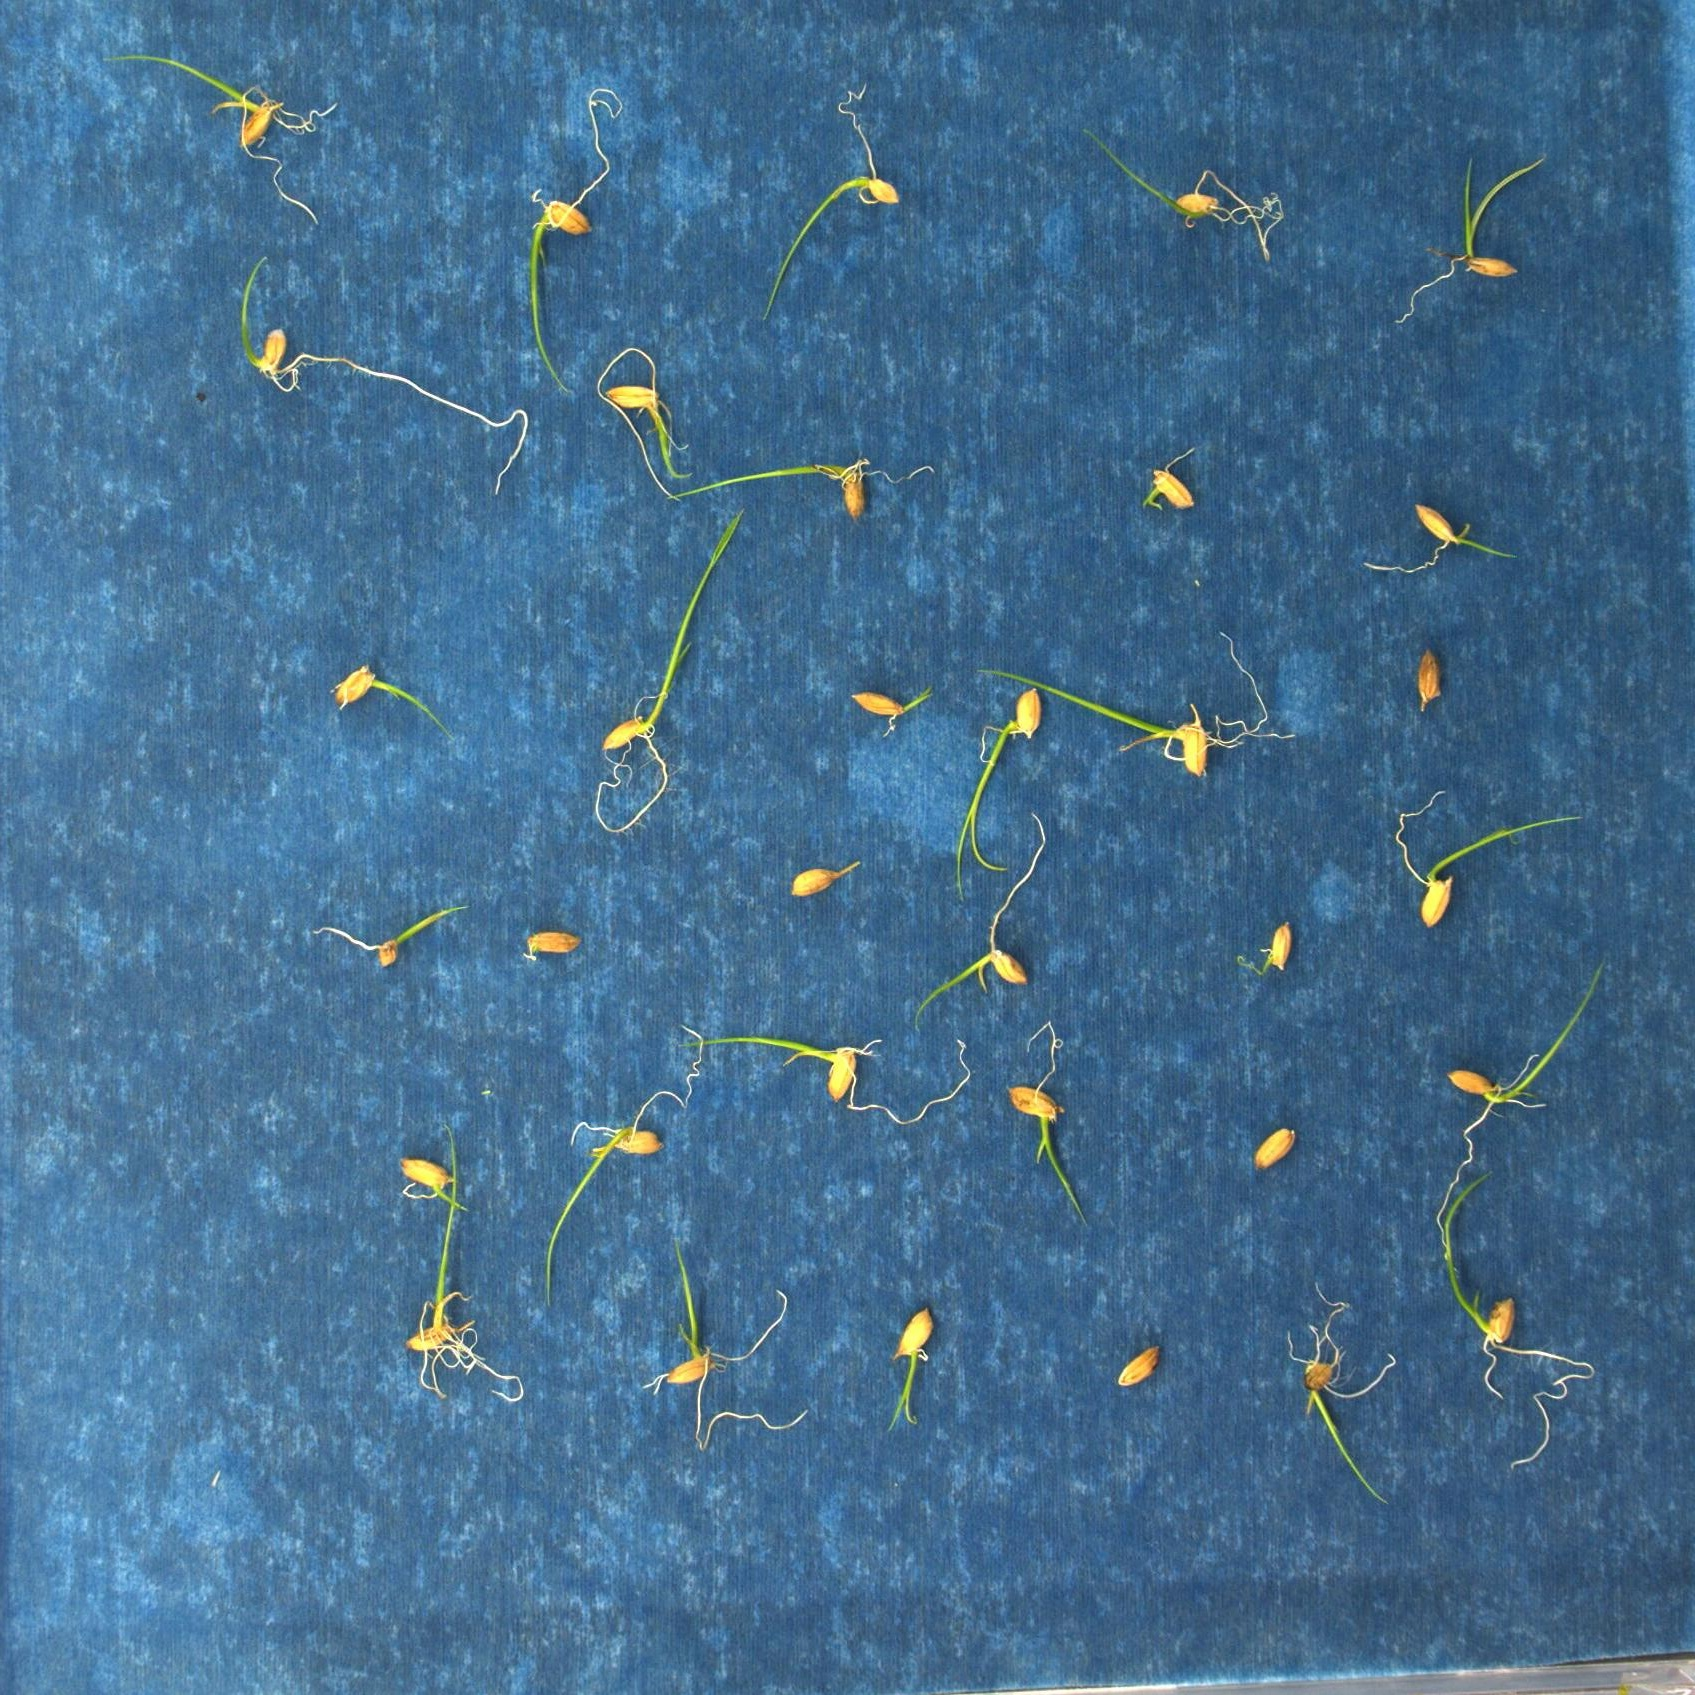not sprout: (1250, 924, 1291, 973), (1114, 1343, 1159, 1386), (518, 928, 584, 958), (1251, 1121, 1291, 1164), (1414, 650, 1439, 708)
sprout: (237, 258, 528, 494), (1434, 959, 1607, 1260), (981, 632, 1295, 779), (540, 1024, 705, 1305), (593, 504, 733, 834), (1445, 1173, 1593, 1470), (101, 54, 340, 224), (638, 1218, 809, 1454), (407, 1118, 523, 1406), (764, 79, 900, 315), (913, 812, 1048, 1035), (528, 90, 622, 400), (678, 1031, 969, 1128), (1083, 126, 1284, 265), (1391, 155, 1544, 324), (1394, 792, 1583, 927), (1287, 1284, 1392, 1506), (955, 685, 1040, 899), (1006, 1020, 1088, 1226), (674, 461, 934, 520), (598, 348, 692, 504), (310, 903, 473, 965), (1364, 504, 1515, 571), (331, 666, 463, 740), (885, 1307, 931, 1434), (404, 1153, 475, 1217), (1135, 444, 1198, 512), (847, 685, 931, 736), (781, 857, 865, 897)
